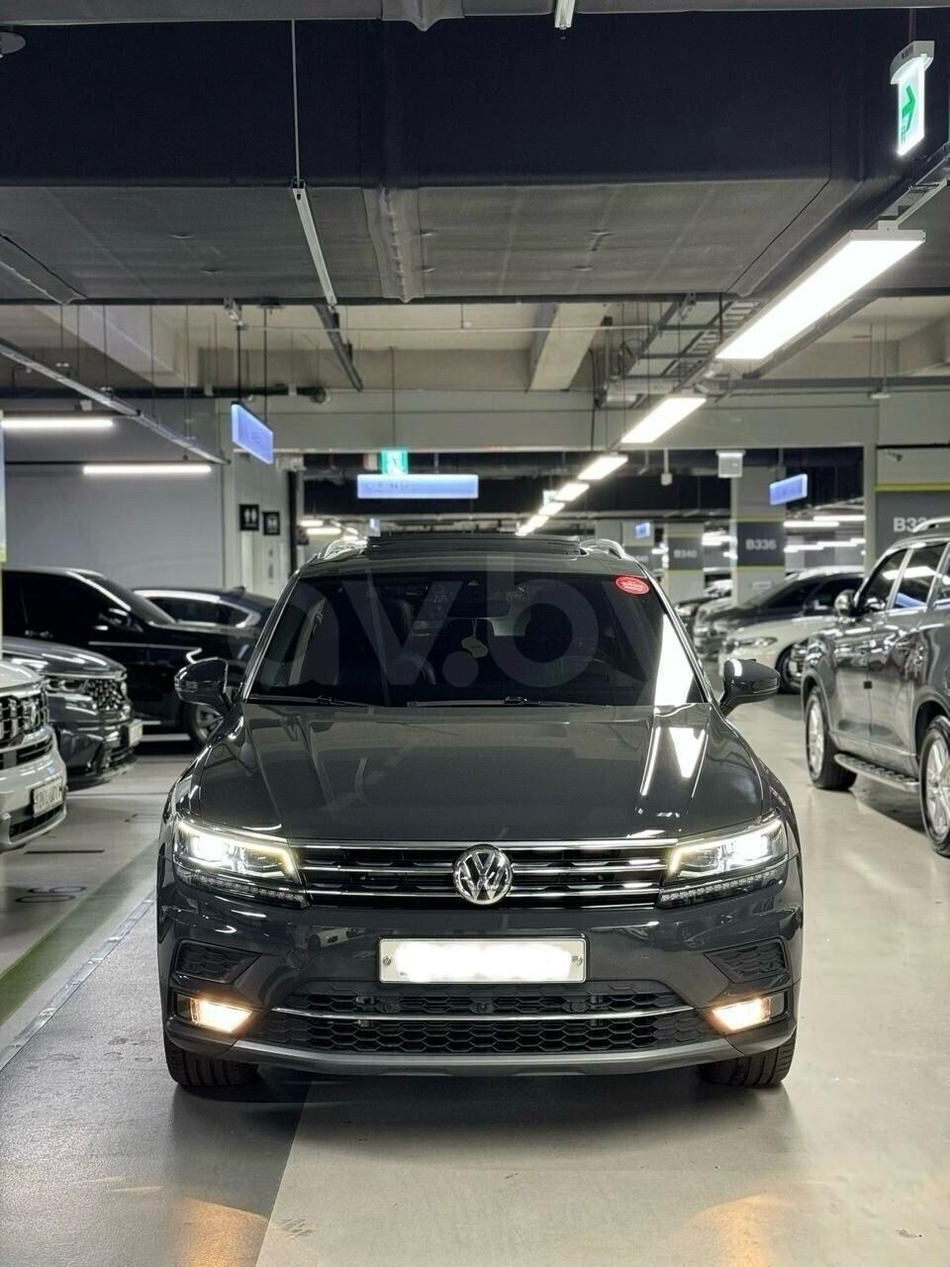Tiguan_2016-2021: (153, 539, 811, 1102)
